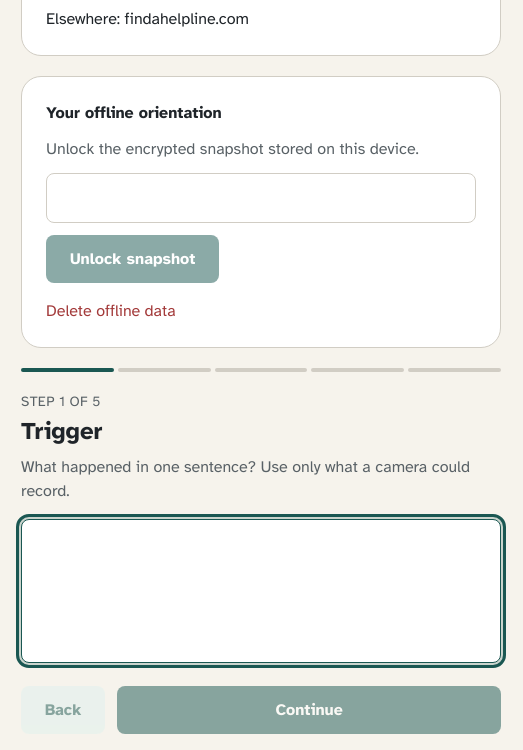
Test: OfflineRegulationProtocol › lets the owner inspect the consented snapshot and encrypt a deferred capture
This screenshot has width=523, height=750.
(page scrolled)
Type "offline passphrase" into the password field named "Offline passphrase" at (261, 198), box [46, 173, 476, 223]
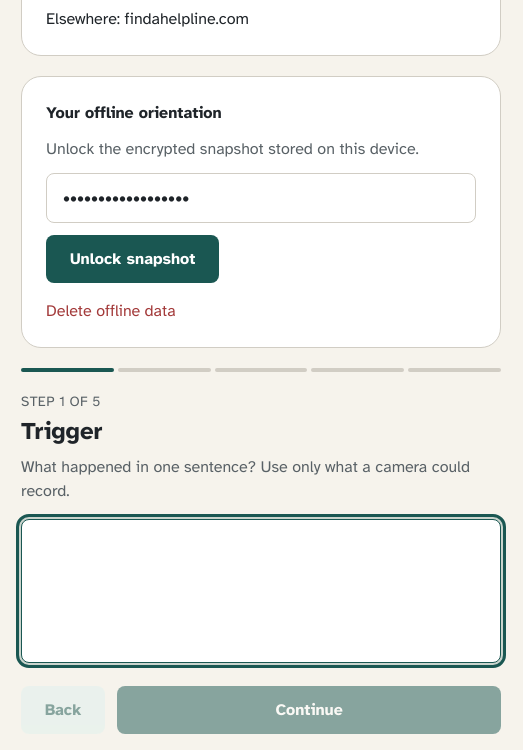
Click the button "Unlock snapshot" at (133, 259), box [46, 235, 219, 283]
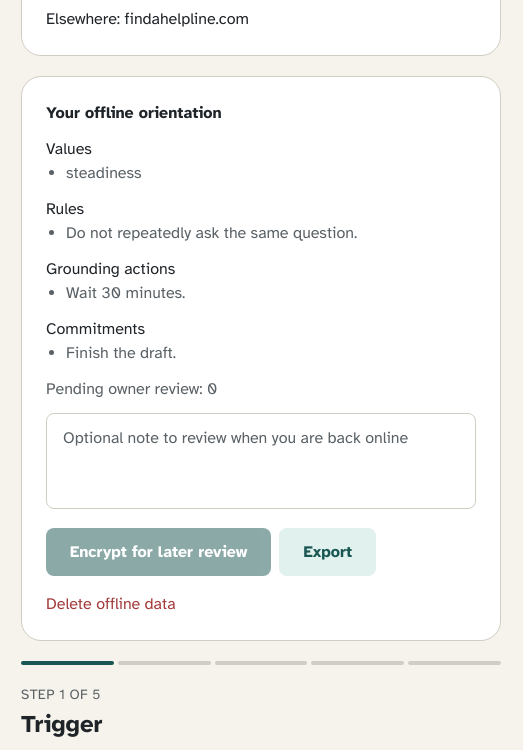
Now the list item "steadiness" is shown, box [66, 163, 142, 183]
Type "Review this later." into the text box named "Deferred offline capture" at (261, 461), box [46, 413, 476, 509]
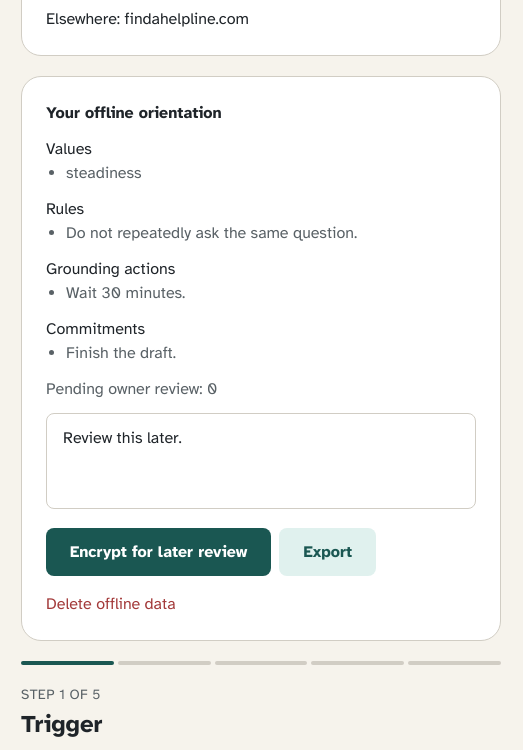
Click the button "Encrypt for later review" at (159, 552), box [46, 528, 271, 576]
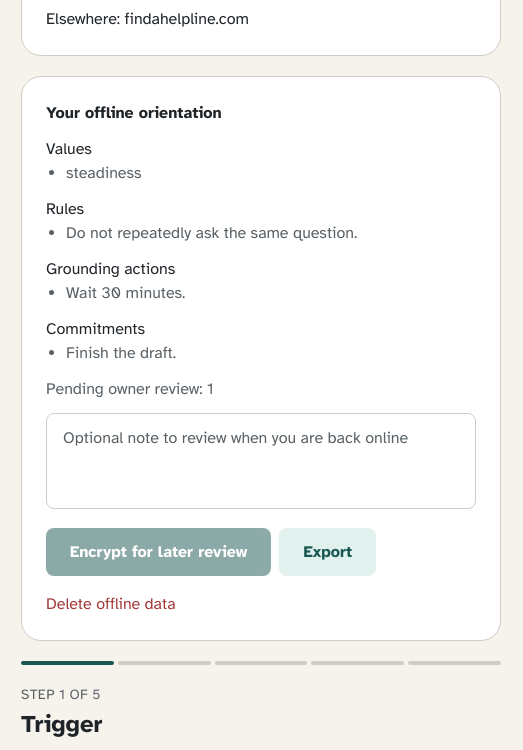
Now the text "Pending owner review: 1" is shown, box [46, 379, 214, 399]
